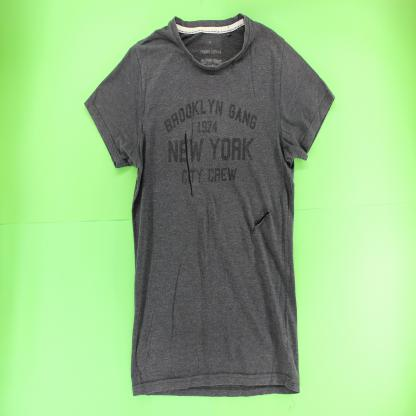hole: (184, 130, 194, 199), (252, 209, 271, 232)
